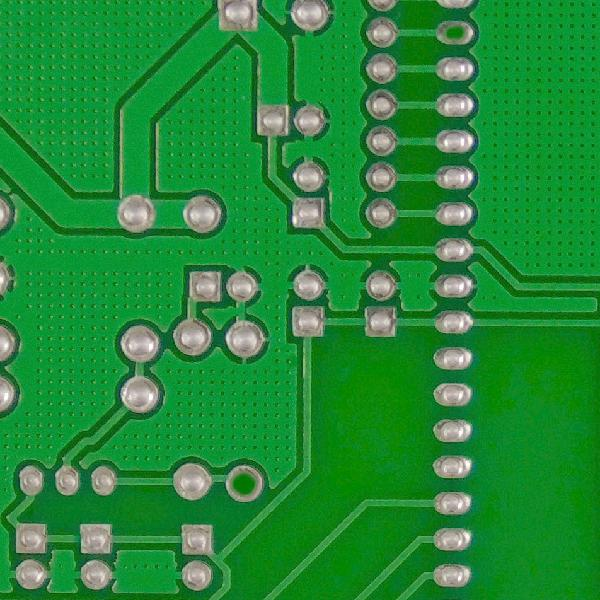missing_hole: (222, 458, 270, 507), (440, 16, 474, 48)
